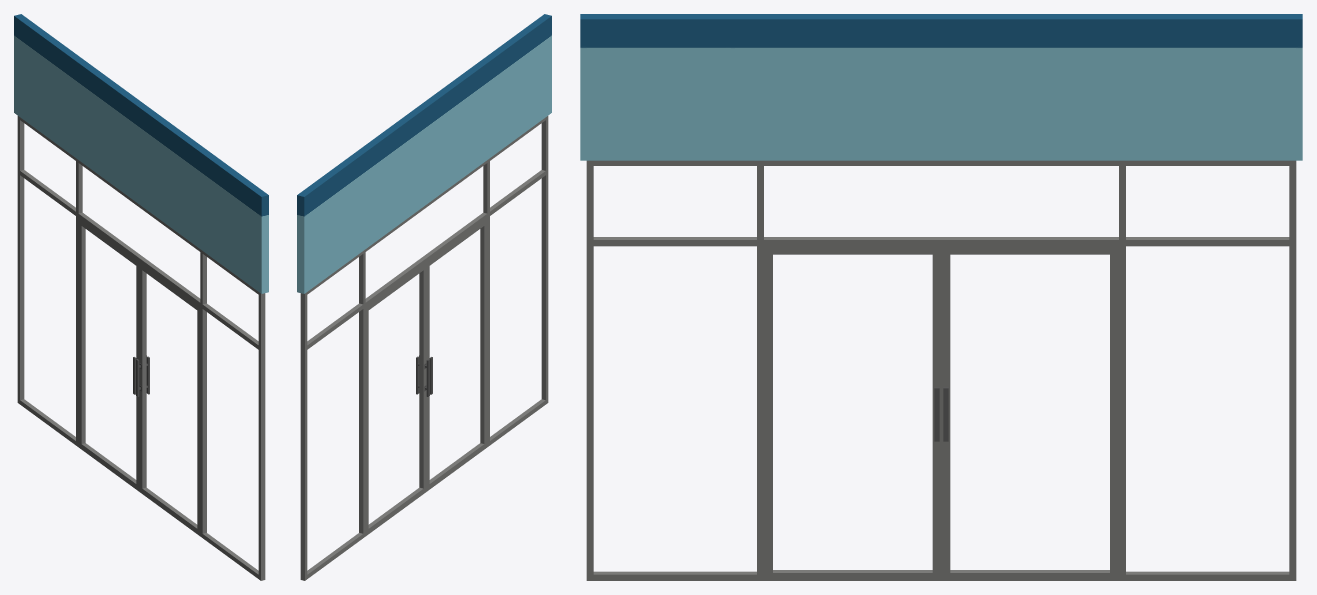
File: Door_GlassDoubleDoor.fbx
3 views of the same model, side by side, from view 1: azimuth 30°, elevation 25°; view 2: azimuth 150°, elevation 25°; view 3: azimuth 270°, elevation 25° (orthographic). The views are drawn at different scales.
Visible parts, largest first — view 1: GlassDoubleDoor_1, Left_GlassDoubleDoor_1, Right_GlassDoubleDoor_1; view 2: GlassDoubleDoor_1, Right_GlassDoubleDoor_1, Left_GlassDoubleDoor_1; view 3: GlassDoubleDoor_1, Left_GlassDoubleDoor_1, Right_GlassDoubleDoor_1.
Part boxes in pixels (left/top/right/bottom): GlassDoubleDoor_1: left=14, top=14, right=268, bottom=580; Left_GlassDoubleDoor_1: left=136, top=263, right=200, bottom=535; Right_GlassDoubleDoor_1: left=78, top=218, right=146, bottom=491; GlassDoubleDoor_1: left=297, top=14, right=551, bottom=580; Right_GlassDoubleDoor_1: left=365, top=263, right=429, bottom=535; Left_GlassDoubleDoor_1: left=419, top=218, right=487, bottom=491; GlassDoubleDoor_1: left=580, top=14, right=1302, bottom=580; Left_GlassDoubleDoor_1: left=764, top=246, right=941, bottom=580; Right_GlassDoubleDoor_1: left=941, top=246, right=1118, bottom=580.
Size of the model in its own units: 11.6 by 350 by 407.
